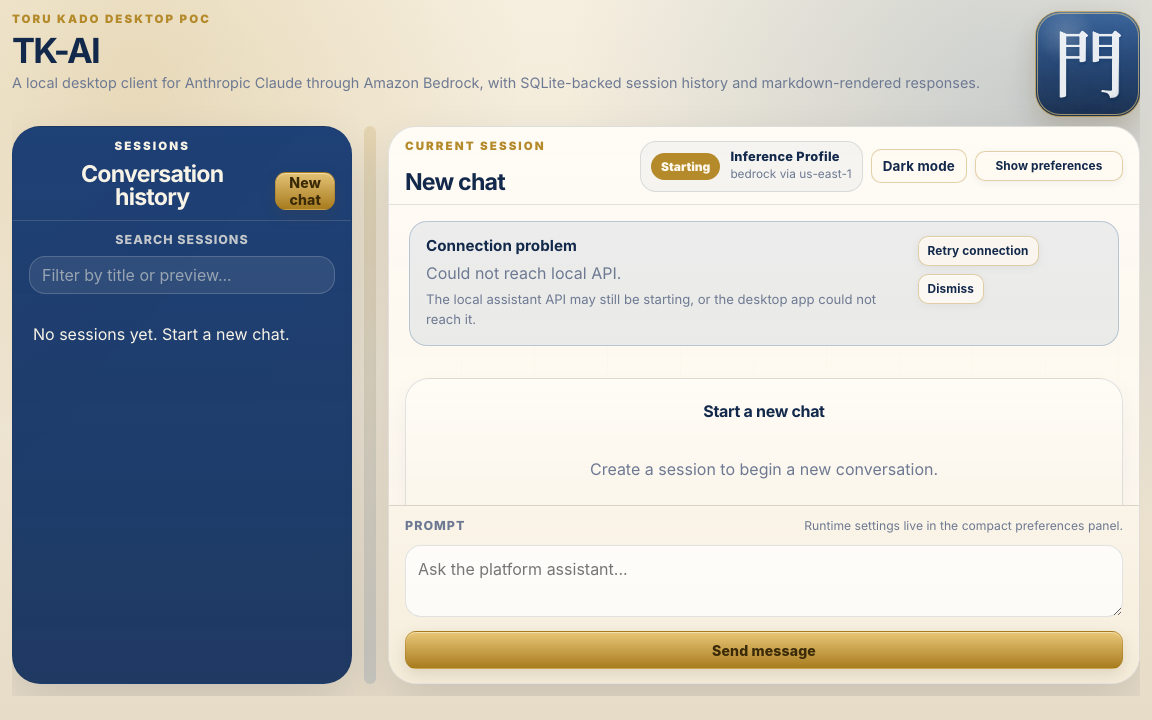
Test: App layout behavior › shows a retry affordance when the desktop bootstrap cannot reach the local API
expect the text "Connection problem" is shown: met, box left=426, top=236, right=577, bottom=255
expect the text "The local assistant API may still be starting" is shown: met, box left=426, top=292, right=876, bottom=328
Click the button "Retry connection" at (978, 251), box left=918, top=236, right=1038, bottom=266
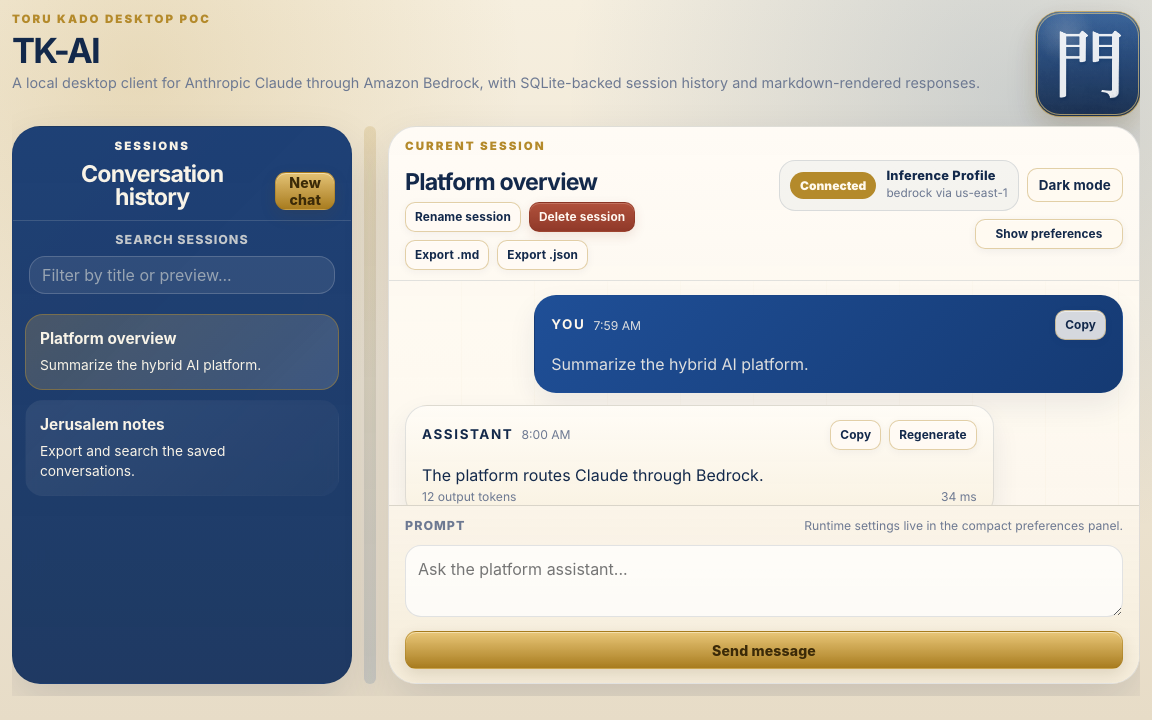
expect the text "Connected" is shown: met, box left=790, top=172, right=876, bottom=199
